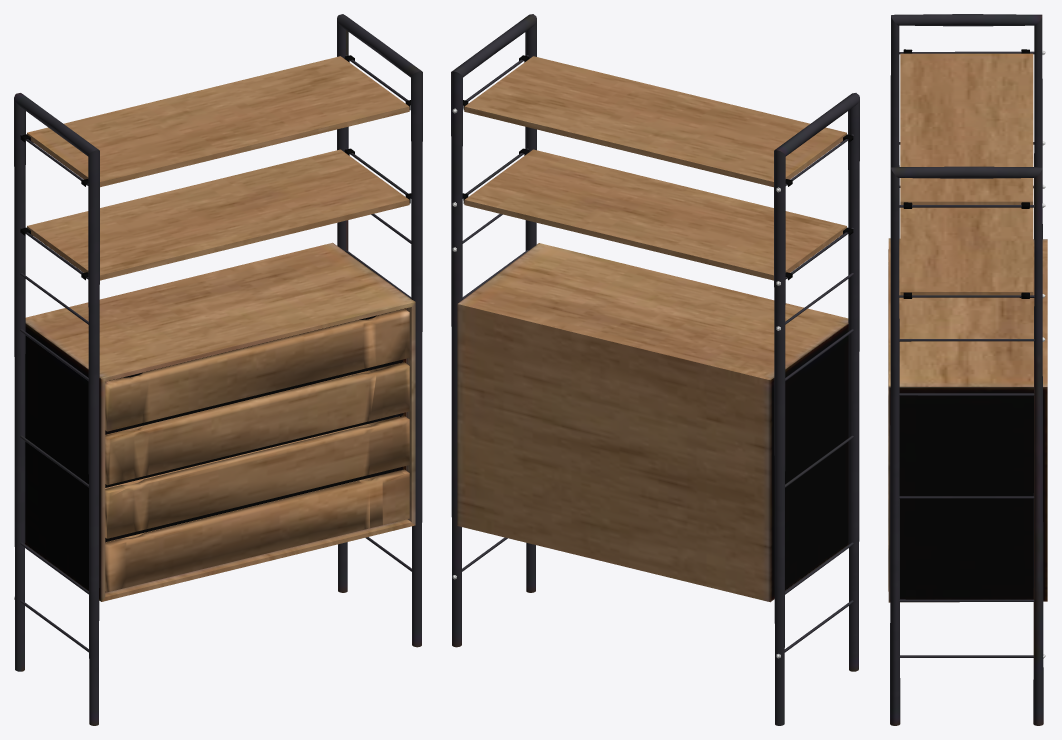
File: drawer_cabinet.glb
3 views of the same model, side by side, from view 1: azimuth 30°, elevation 25°; view 2: azimuth 150°, elevation 25°; view 3: azimuth 270°, elevation 25° (orthographic). The views are drawn at different scales.
Parts seen in each view (by area): view 1: drawer_cabinet; view 2: drawer_cabinet; view 3: drawer_cabinet.
Part boxes in pixels (<box>): drawer_cabinet: <box>14,14,422,725</box>; drawer_cabinet: <box>451,14,859,725</box>; drawer_cabinet: <box>888,14,1047,725</box>.
Bounding box in the file's own units: 1.14 × 1.88 × 0.4881.
Materials: 1 (1 with a texture image).
